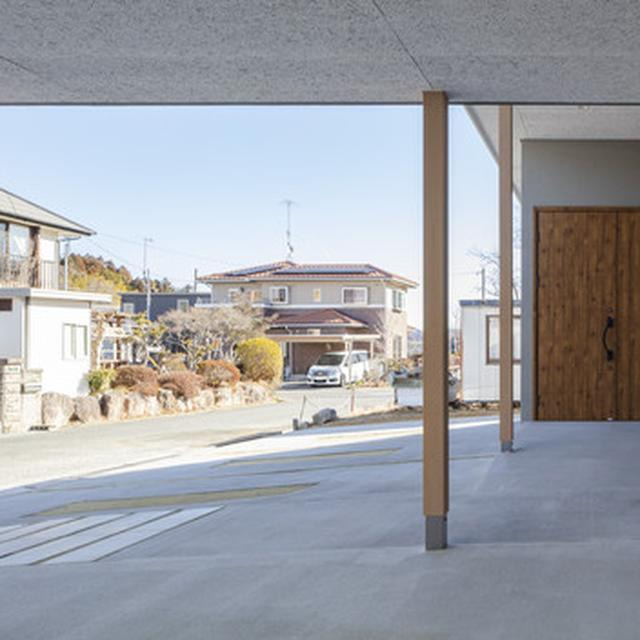building: (190, 233, 414, 385), (0, 181, 113, 395)
